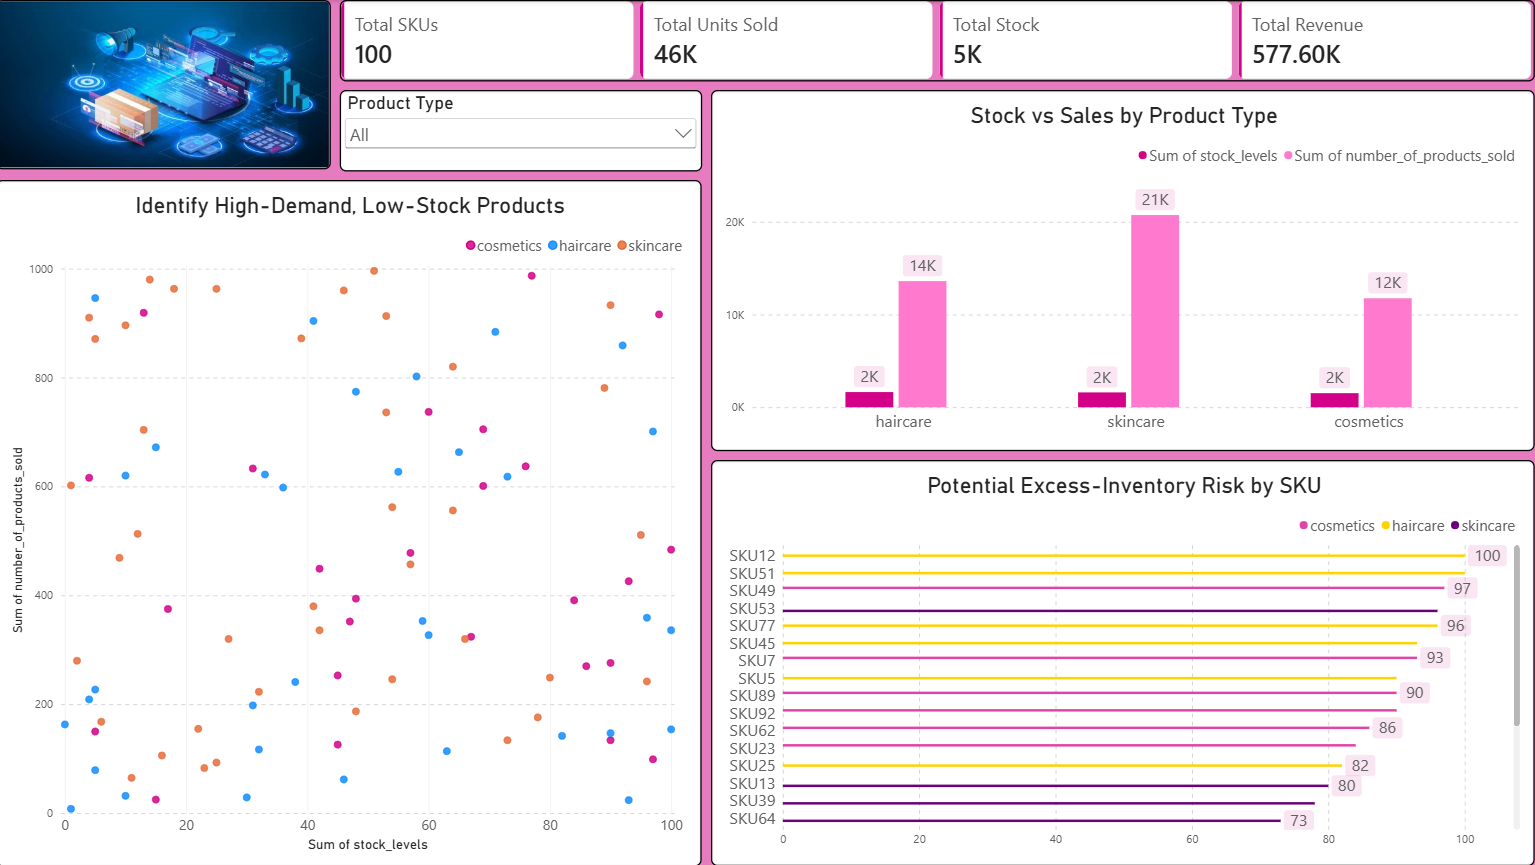

The dashboard page shown, as its layout file describes it:
{"tool":"powerbi","page":{"name":"Inventory Optimization Overview","canvas":[1920,1080],"ordinal":0},"visuals":[{"type":"cardVisual","fields":{"Data":["CountNonNull(public supply_chain_raw.sku)","Sum(public supply_chain_raw.number_of_products_sold)","Sum(public supply_chain_raw.stock_levels)","Sum(public supply_chain_raw.revenue_generated)"]},"box":[429,0,1490.3,101.6],"z":0},{"type":"clusteredColumnChart","title":"Stock vs Sales by Product Type","fields":{"Category":["public supply_chain_raw.product_type"],"Y":["Sum(public supply_chain_raw.stock_levels)","Sum(public supply_chain_raw.number_of_products_sold)"]},"box":[891.9,112.9,1027.4,450],"z":1000},{"type":"scatterChart","title":"Identify High-Demand, Low-Stock Products","fields":{"Category":["public supply_chain_raw.sku"],"Series":["public supply_chain_raw.product_type"],"X":["Sum(public supply_chain_raw.stock_levels)"],"Y":["Sum(public supply_chain_raw.number_of_products_sold)"]},"box":[0,224.6,880.1,856.2],"z":2000},{"type":"clusteredBarChart","title":"Potential Excess-Inventory Risk by SKU","fields":{"Category":["public supply_chain_raw.sku"],"Series":["public supply_chain_raw.product_type"],"Y":["Sum(public supply_chain_raw.stock_levels)"]},"box":[891.9,574.2,1027.4,506.5],"z":3000},{"type":"slicer","fields":{"Values":["public supply_chain_raw.product_type"]},"box":[429,112.9,451.6,101.6],"z":4000},{"type":"image","box":[0,0,417.7,211.3],"z":5000}]}

Visuals, with their boxes in screenshot pixels (x1, y1, x2, y2), scaled from the page's 1920x1080 canvas onto the 1535x865 screenshot:
cardVisual - CountNonNull(public supply_chain_raw.sku) x Sum(public supply_chain_raw.number_of_products_sold): 343 0 1534 81
"Stock vs Sales by Product Type" clusteredColumnChart: 713 90 1534 451
"Identify High-Demand, Low-Stock Products" scatterChart: 0 180 704 864
"Potential Excess-Inventory Risk by SKU" clusteredBarChart: 713 460 1534 864
slicer - public supply_chain_raw.product_type: 343 90 704 172
image: 0 0 334 169
